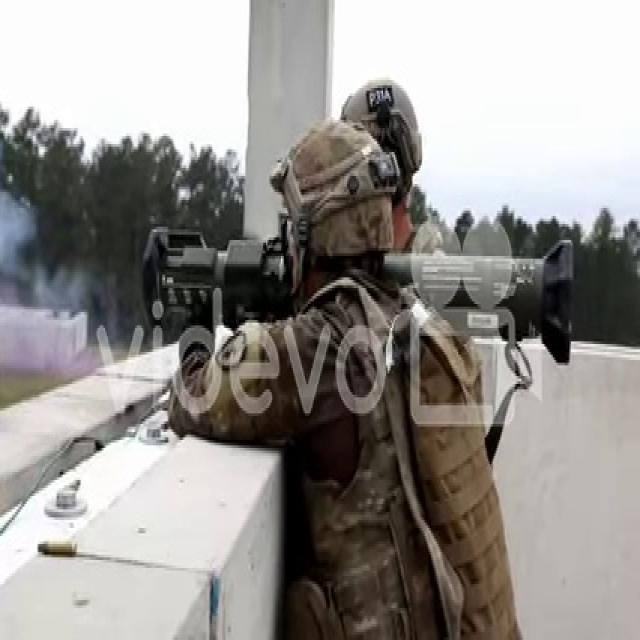bazooka: (136, 192, 580, 382)
